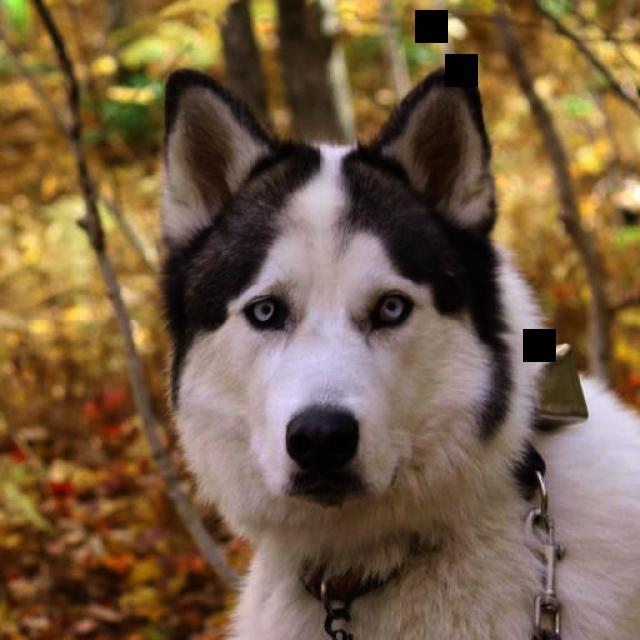adult_dog: (153, 66, 640, 640)
